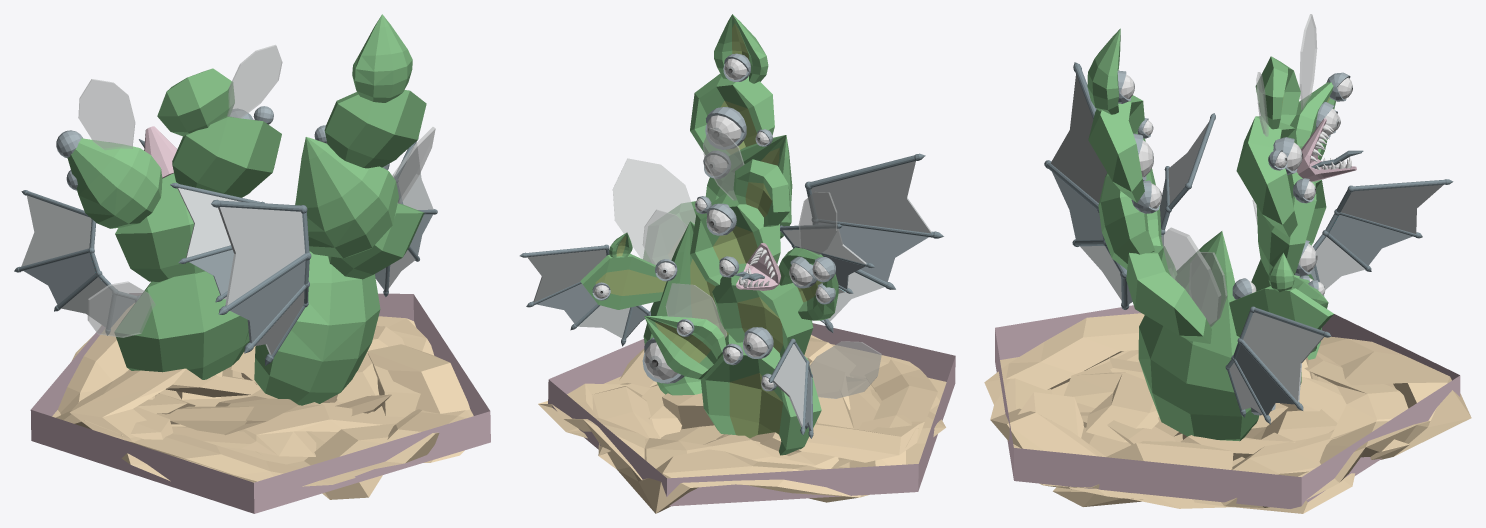
Rendered from GERM2.fbx.
3 views of the same model, side by side, from view 1: azimuth 30°, elevation 25°; view 2: azimuth 150°, elevation 25°; view 3: azimuth 270°, elevation 25° (orthographic). The views are drawn at different scales.
Visible parts, largest first — view 1: mesh1276876063; view 2: mesh1276876063, mesh218011378, mesh1924249202, mesh813400779, mesh2118380870, mesh2045536637, mesh1966623222, mesh1804138508, mesh635583595; view 3: mesh1276876063, mesh813400779, mesh1804138508, mesh635583595.
Boxes of the visible parts, <box> form: mesh1276876063: <box>14,14,490,513</box>; mesh1276876063: <box>519,14,955,513</box>; mesh218011378: <box>705,107,746,149</box>; mesh1924249202: <box>642,337,684,383</box>; mesh813400779: <box>706,203,736,235</box>; mesh2118380870: <box>743,327,773,358</box>; mesh2045536637: <box>789,256,817,288</box>; mesh1966623222: <box>723,53,750,81</box>; mesh1804138508: <box>703,150,730,178</box>; mesh635583595: <box>812,257,835,282</box>; mesh1276876063: <box>984,14,1471,513</box>; mesh813400779: <box>1273,137,1302,175</box>; mesh1804138508: <box>1131,180,1161,213</box>; mesh635583595: <box>1326,72,1352,101</box>.
Bounding box in the file's own units: 137 × 141 × 131.
